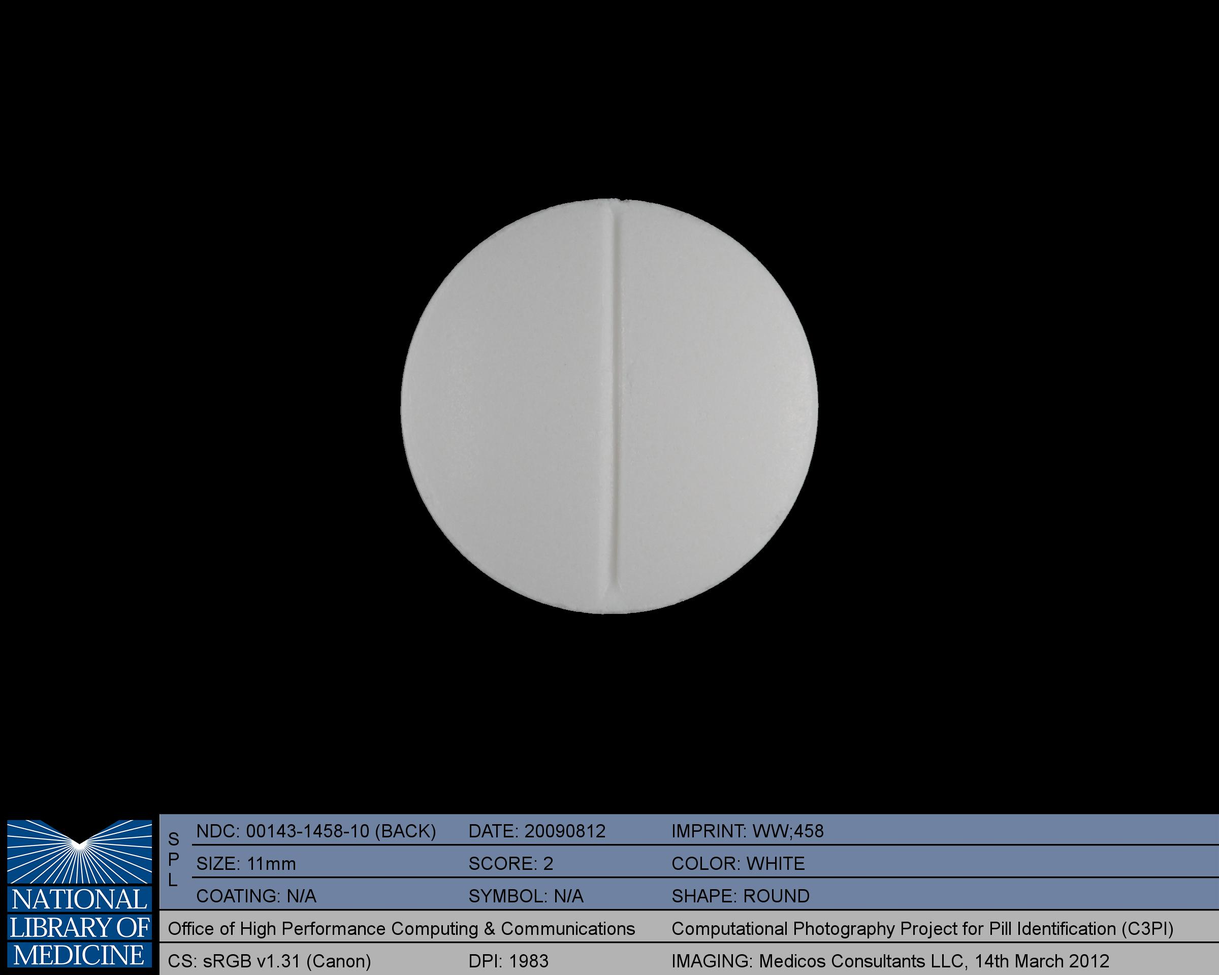Pill: (386, 188, 835, 628)
